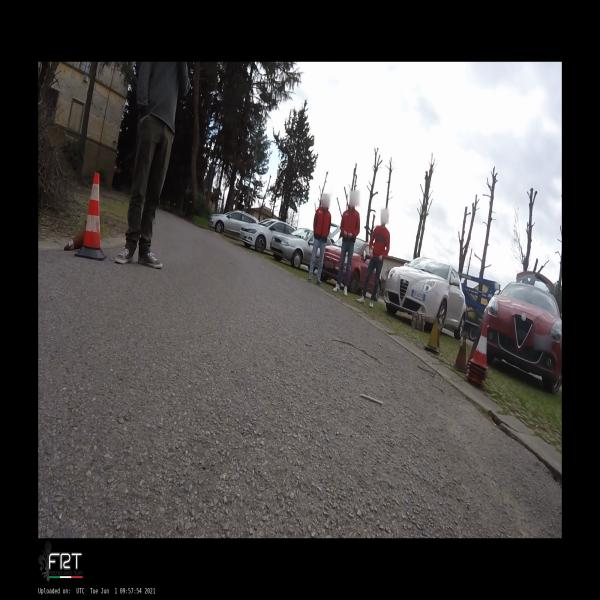large_orange_cone: (74, 172, 107, 260)
orange_cone: (470, 323, 488, 369)
unknown_cone: (64, 221, 87, 251), (451, 334, 466, 374), (425, 318, 439, 352), (467, 339, 476, 366)
